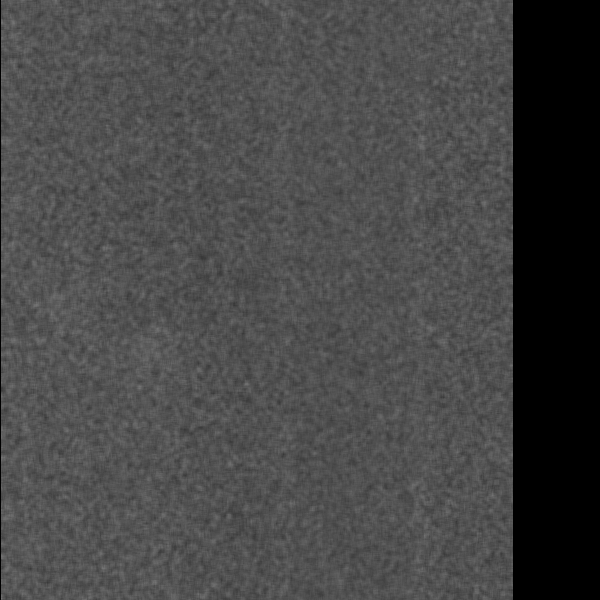spark: (97, 160, 138, 235), (352, 187, 386, 256), (187, 73, 221, 139), (380, 409, 428, 450), (419, 343, 457, 381), (85, 30, 123, 58), (500, 369, 520, 416), (96, 104, 125, 136), (73, 314, 92, 359), (92, 416, 125, 436)
